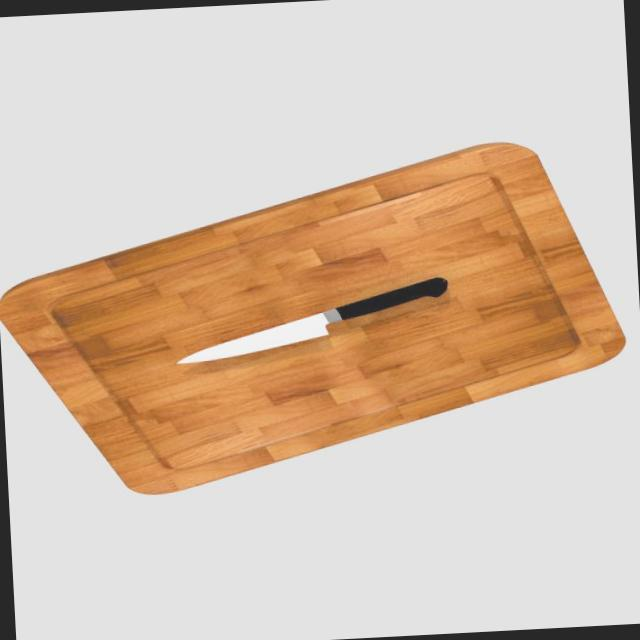knife: (334, 276, 449, 320)
